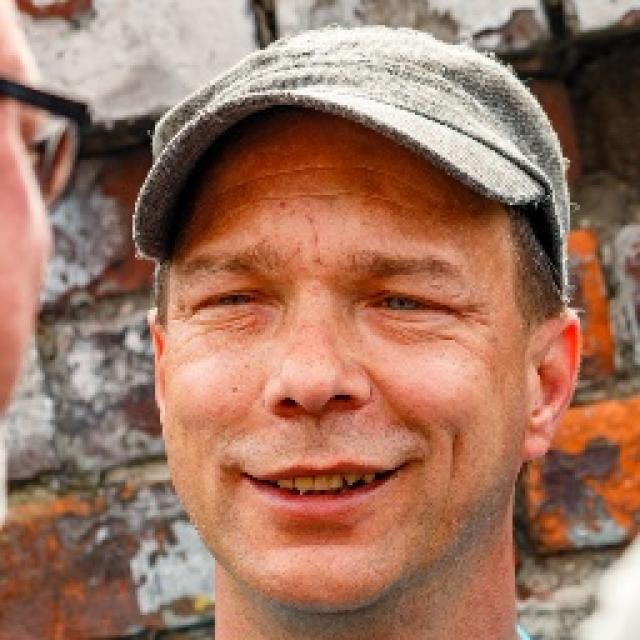earlobe: (521, 306, 583, 464), (146, 306, 166, 436)
